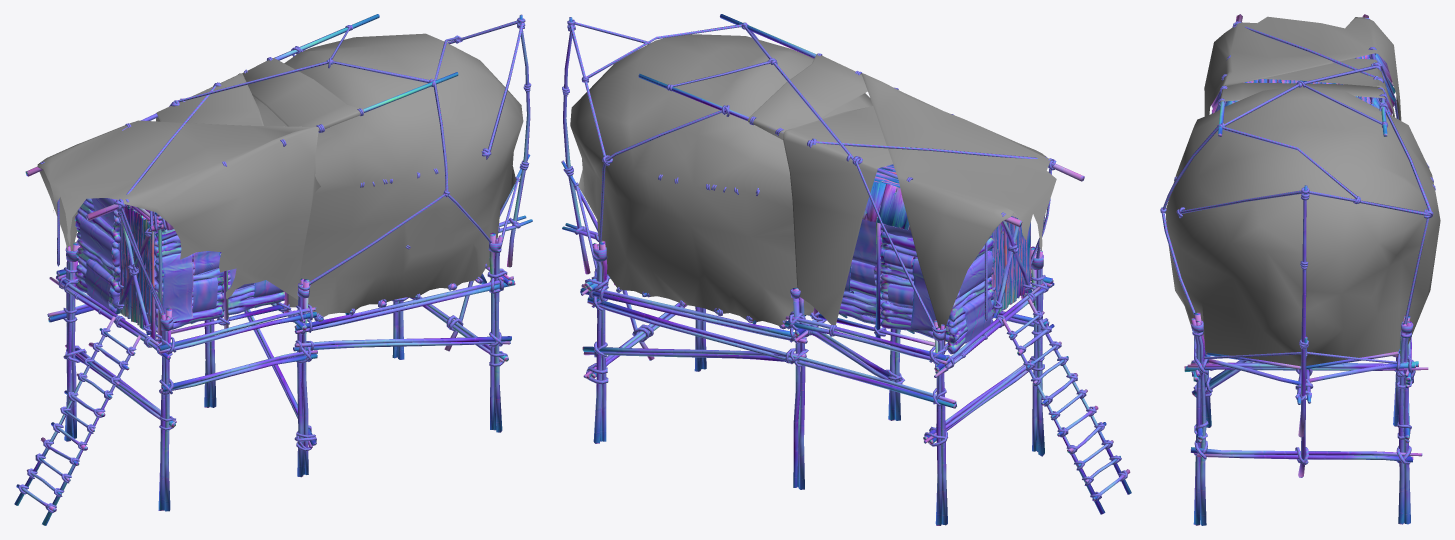
Rendered from advancedHouse2.FBX.
The picture shows the model from 3 angles, left to right: view 1: azimuth 30°, elevation 25°; view 2: azimuth 150°, elevation 25°; view 3: azimuth 270°, elevation 25°; orthographic projection. The views are drawn at different scales.
Parts seen in each view (by area): view 1: house_lod0, House_door_LOD0; view 2: house_lod0, House_door_LOD0; view 3: house_lod0.
Boxes of the visible parts, x1,y1,x2,y2 form: house_lod0: (14, 14, 532, 525); House_door_LOD0: (116, 206, 156, 339); house_lod0: (561, 14, 1131, 525); House_door_LOD0: (989, 216, 1032, 318); house_lod0: (1160, 14, 1440, 525).
Size of the model in its own units: 977 by 434 by 659.
